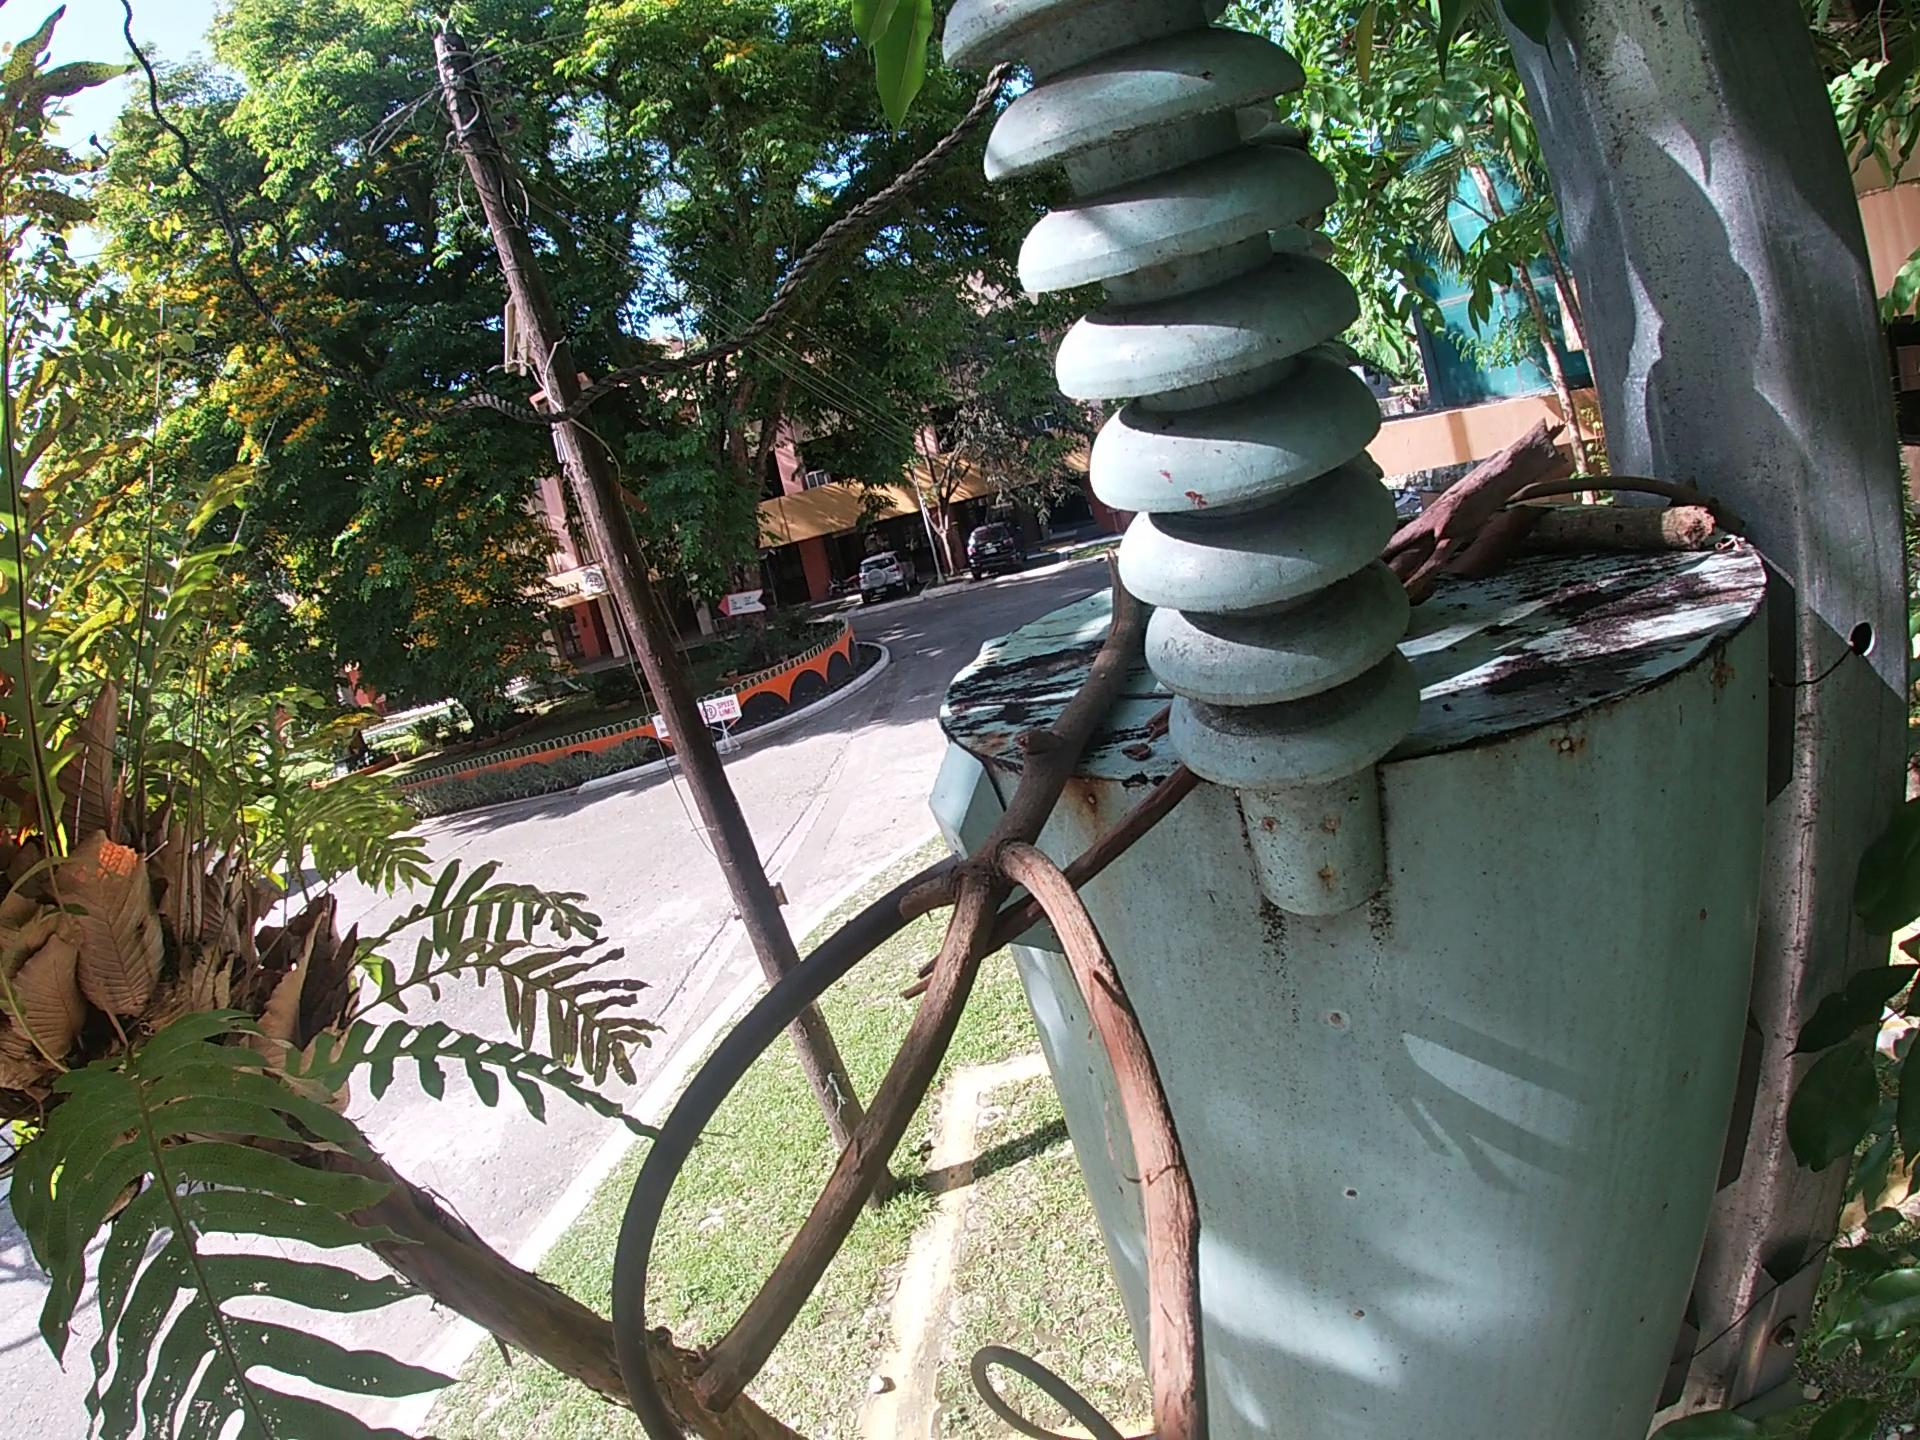leaf: (1454, 495, 1559, 582)
tree branch: (671, 535, 1223, 1438), (903, 761, 1212, 1010), (1380, 413, 1575, 613), (1518, 495, 1717, 560), (1513, 467, 1743, 519)
